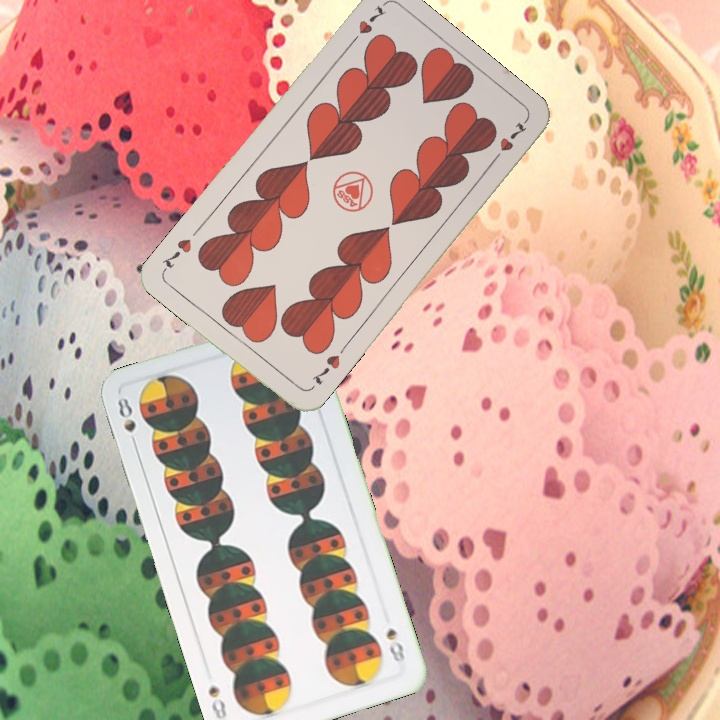H7: (344, 1, 390, 50), (307, 350, 343, 388)
S8: (113, 393, 140, 451), (382, 623, 408, 665)
